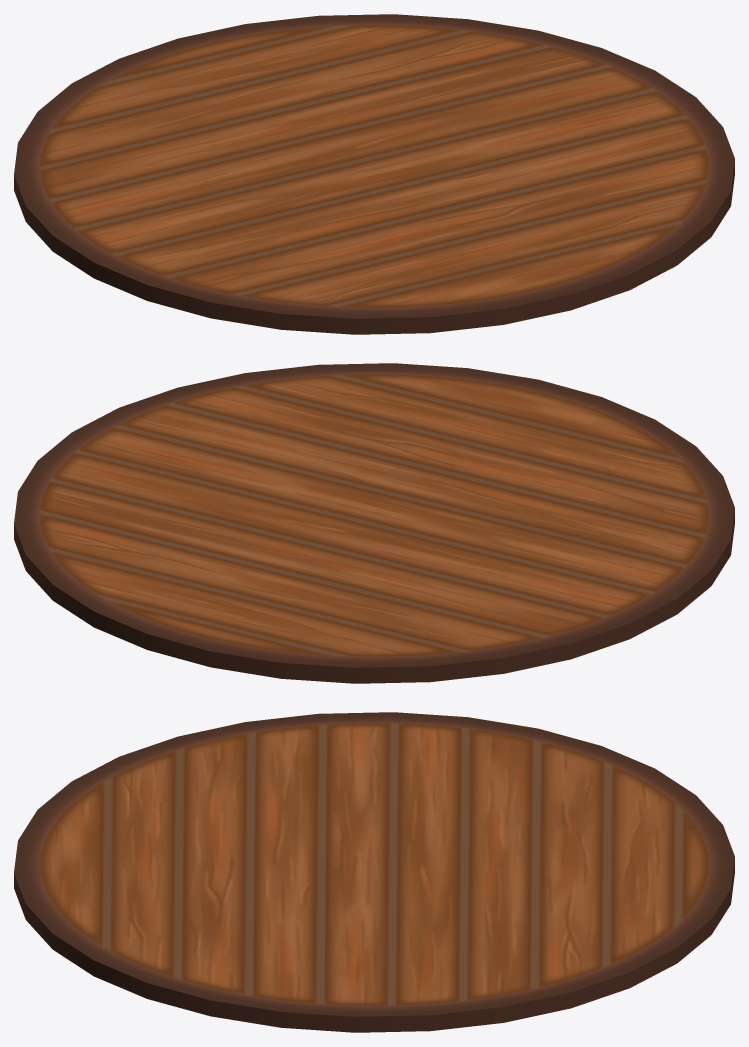
File: Castle_rotating_platform.fbx
The picture shows the model from 3 angles, top to bottom: view 1: azimuth 30°, elevation 25°; view 2: azimuth 150°, elevation 25°; view 3: azimuth 270°, elevation 25°; orthographic projection.
Visible parts, largest first — view 1: Rotating_Platform; view 2: Rotating_Platform; view 3: Rotating_Platform.
Part boxes in pixels (left/top/right/bottom): Rotating_Platform: left=14, top=14, right=734, bottom=334; Rotating_Platform: left=14, top=363, right=734, bottom=683; Rotating_Platform: left=14, top=712, right=734, bottom=1032.
Bounding box in the file's own units: 2.71 × 0.0661 × 2.71.
